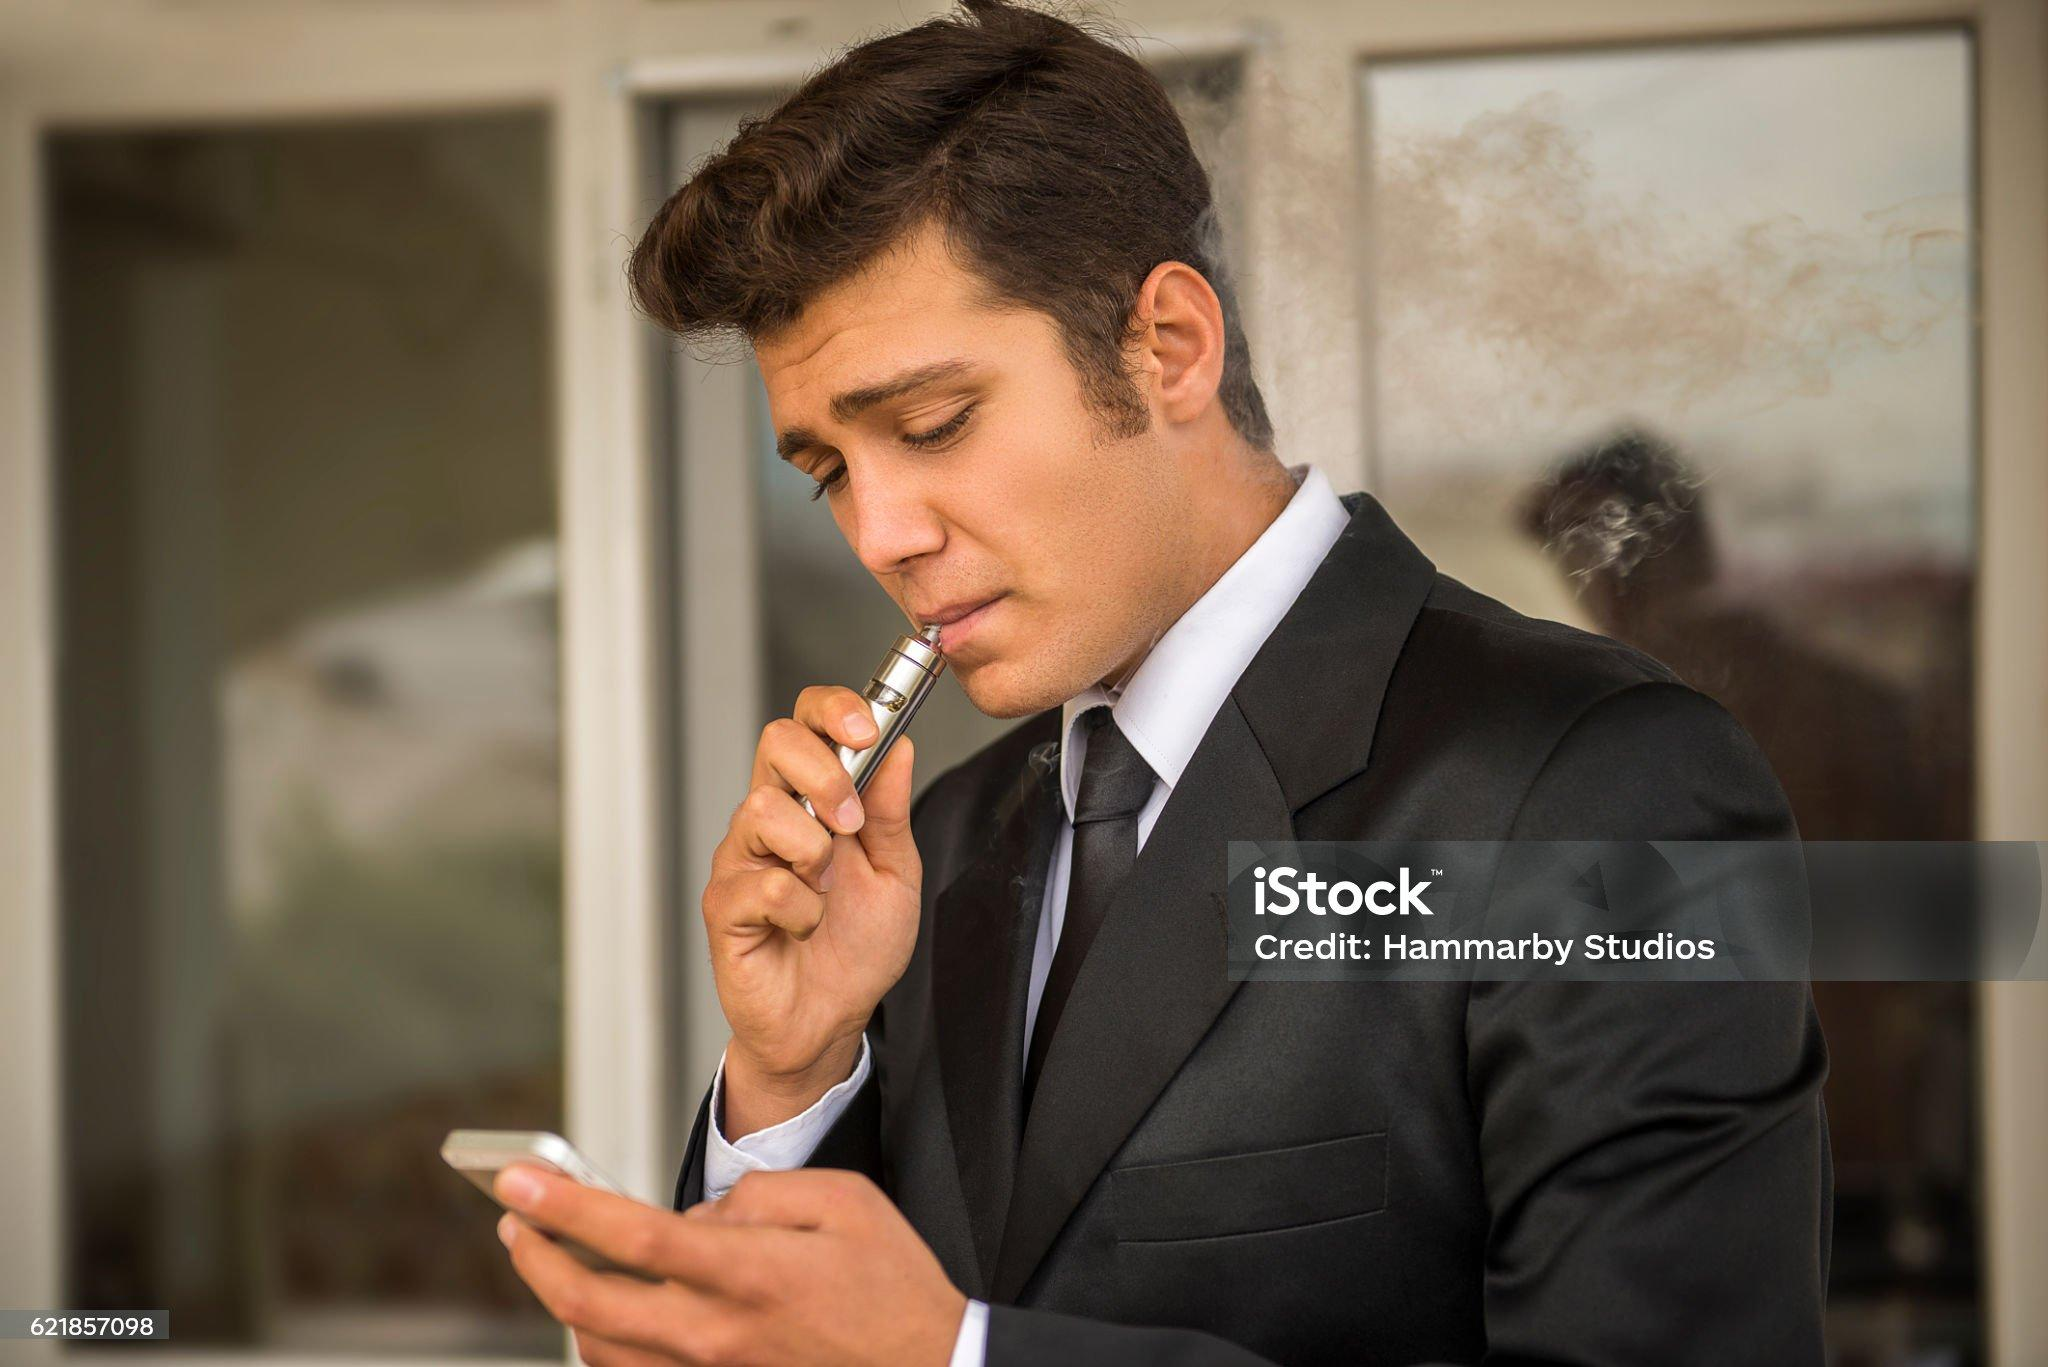Vape: (827, 622, 949, 793)
